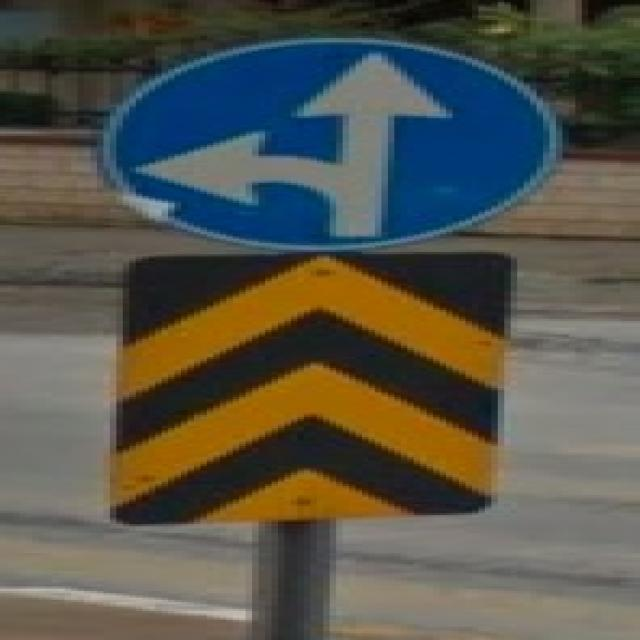Straight or Left: (98, 39, 557, 251)
